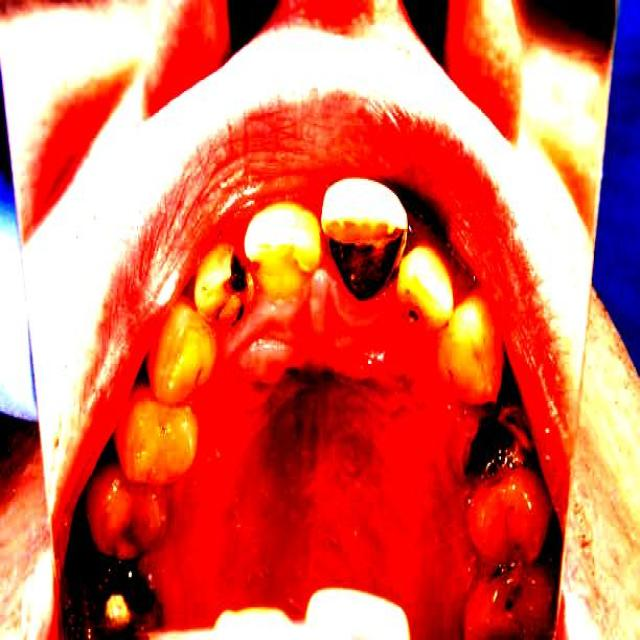caries: (324, 198, 404, 302), (460, 396, 534, 488), (479, 537, 536, 628), (200, 246, 255, 334), (89, 494, 157, 564), (394, 286, 435, 340)
